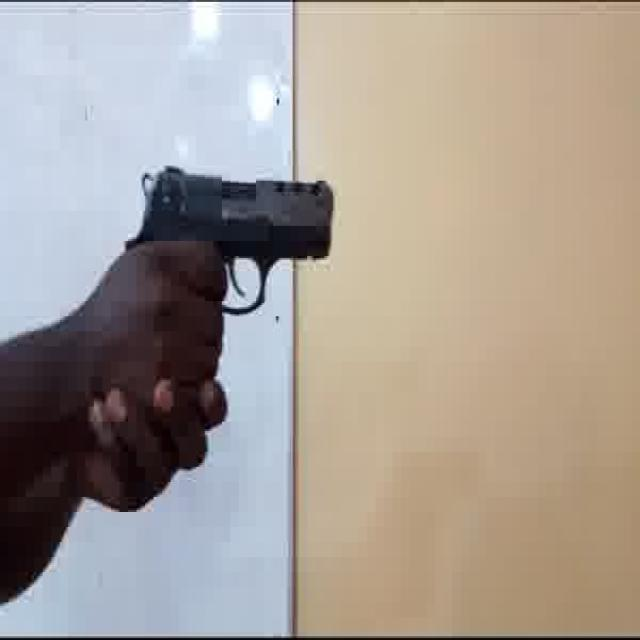weapon: (120, 162, 334, 324)
